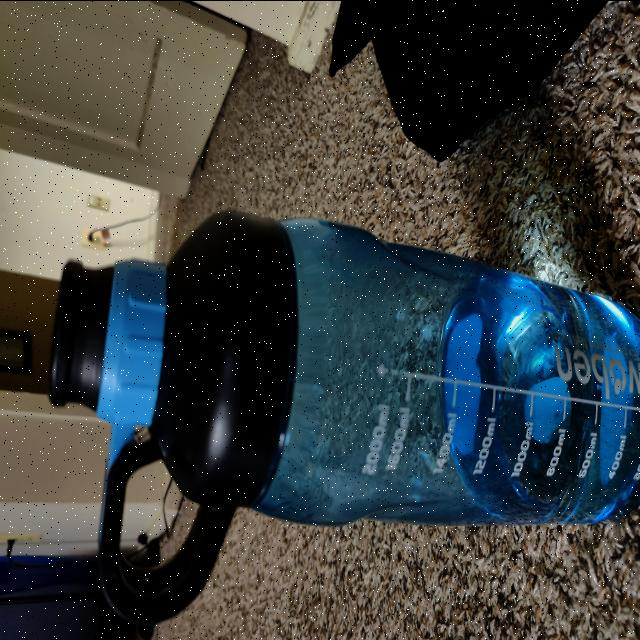bottle: (50, 226, 640, 616)
